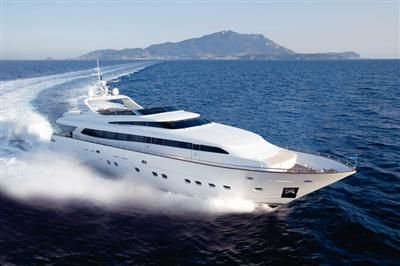yacht: (48, 60, 351, 204)
